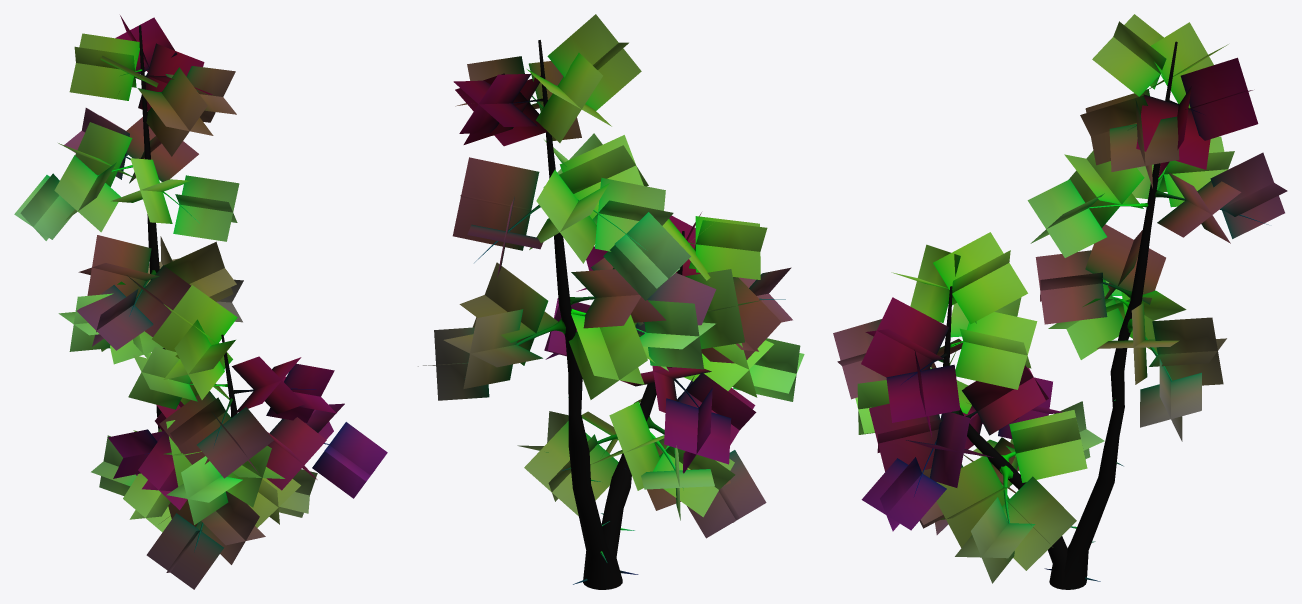
The model's file is URP_P7_Tree_8_LOD_1.fbx.
3 views of the same model, side by side, from view 1: azimuth 30°, elevation 25°; view 2: azimuth 150°, elevation 25°; view 3: azimuth 270°, elevation 25° (orthographic). The views are drawn at different scales.
Parts seen in each view (by area): view 1: Tree_8_LOD_1; view 2: Tree_8_LOD_1; view 3: Tree_8_LOD_1.
Part boxes in pixels (x1=…): Tree_8_LOD_1: x1=14, y1=15, x2=387, y2=589; Tree_8_LOD_1: x1=418, y1=14, x2=804, y2=589; Tree_8_LOD_1: x1=833, y1=14, x2=1287, y2=589.
Size of the model in its own units: 275 by 547 by 409.
